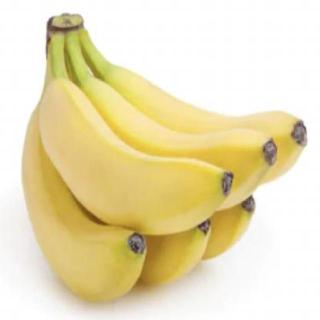banana: (38, 77, 236, 239), (70, 78, 279, 220), (19, 97, 149, 306), (96, 70, 310, 194)
